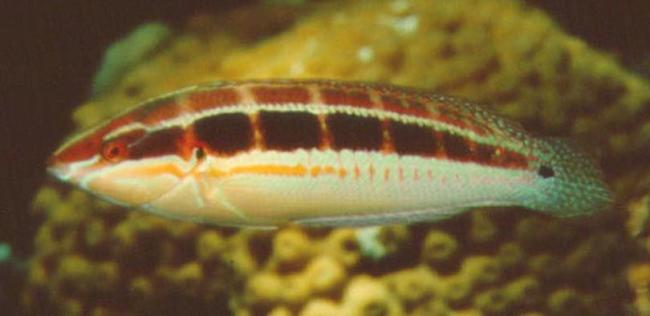fish: (45, 80, 614, 232)
